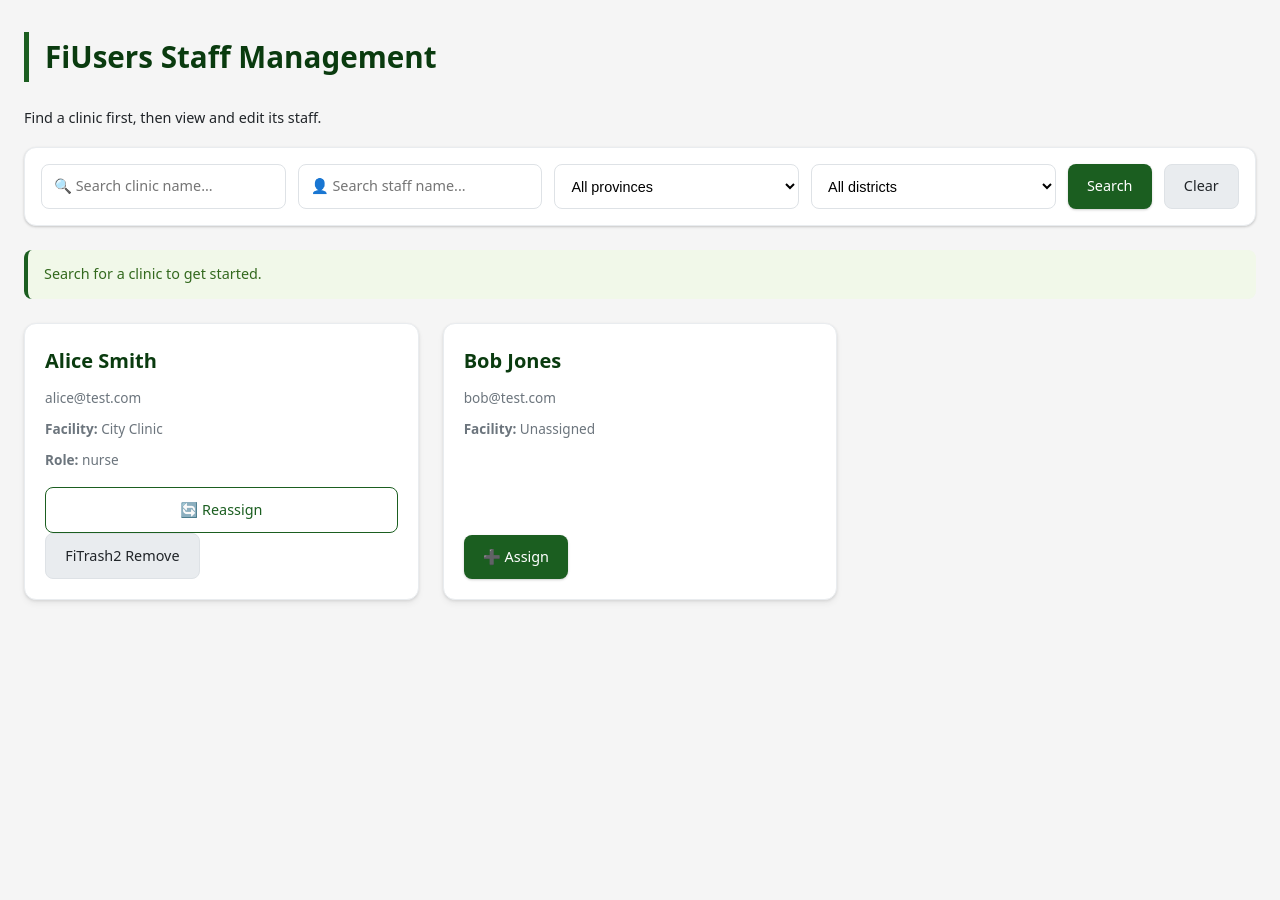
AdminStaff › opens reassign modal with pre-filled values
Click the button "🔄 Reassign". click: (221, 510)
box: [45,487,398,533]
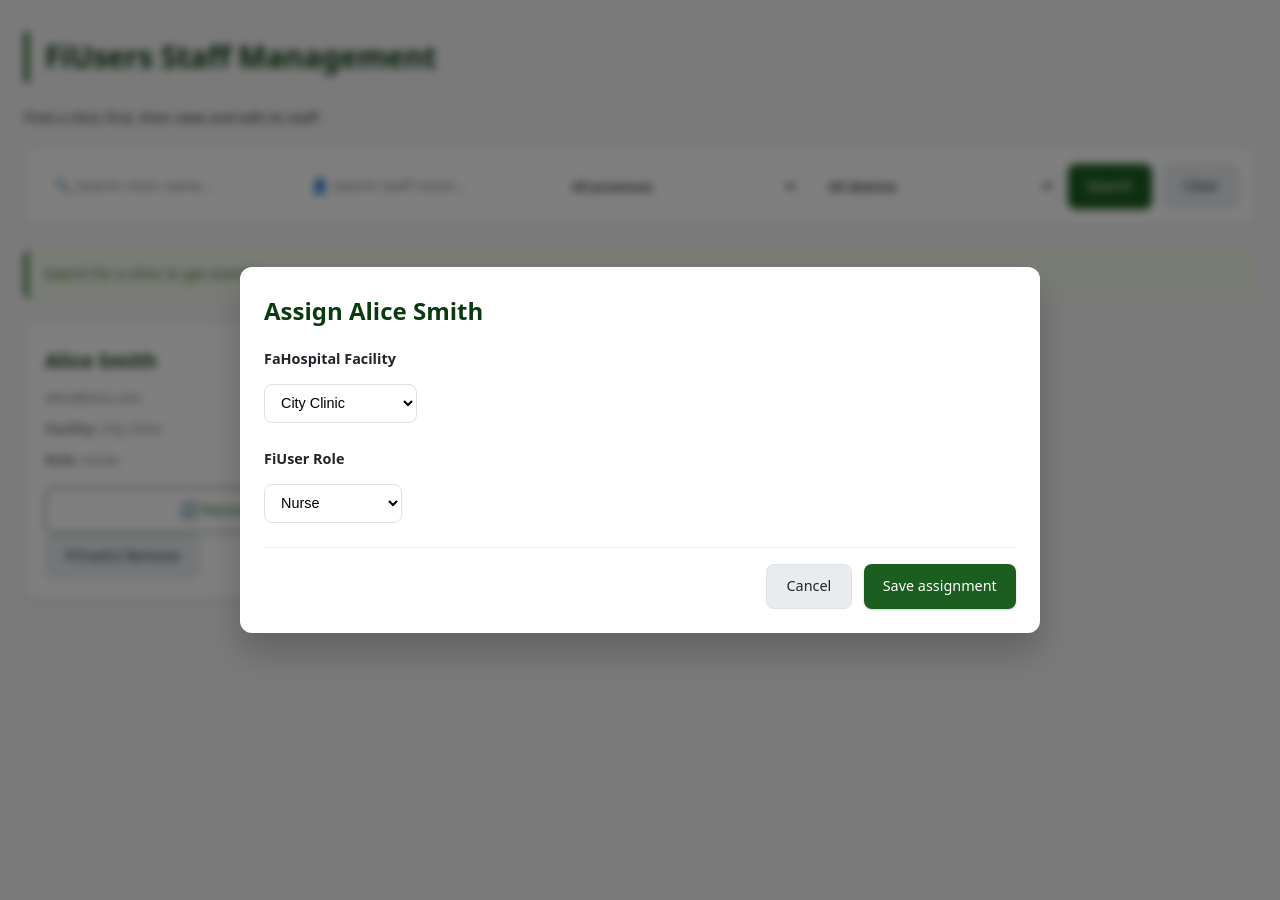
Expected: the heading "Assign Alice Smith" is shown, [264,294,483,327]
